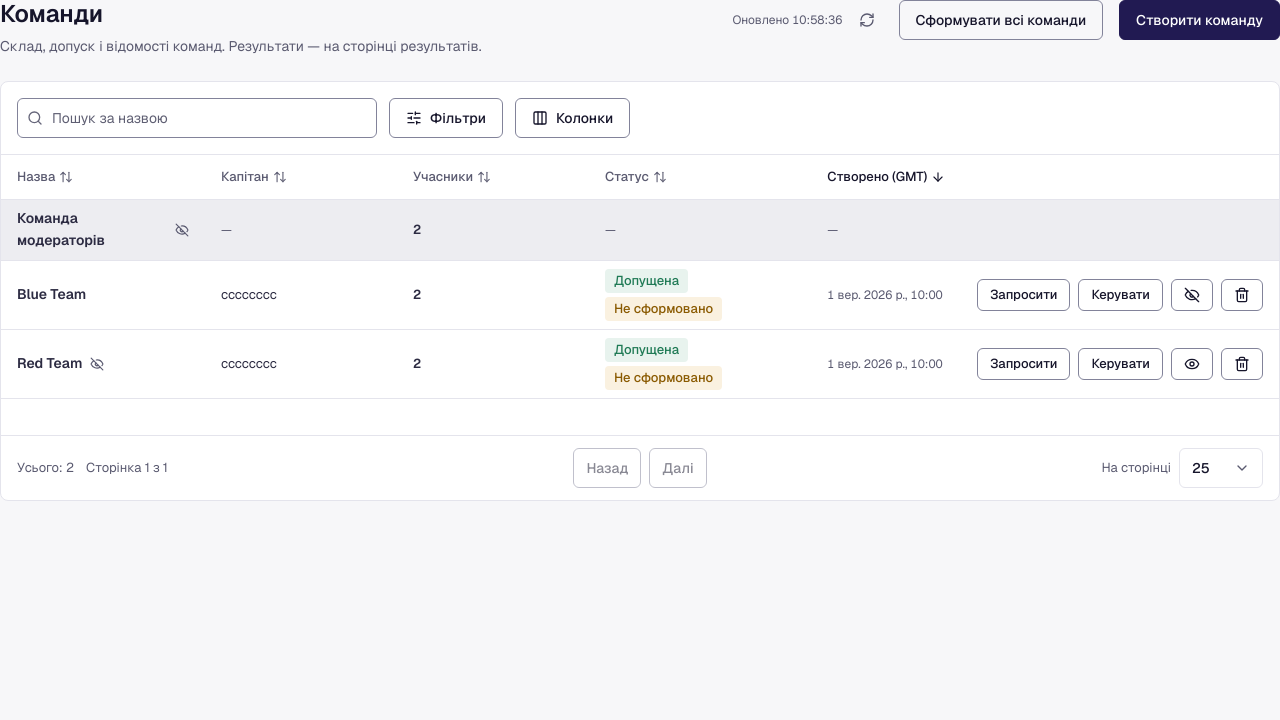
Test: does not offer a team Save until effective values change
expect the text "Blue Team" is shown: met, box [17, 284, 86, 306]
Click the button with aria-label "Керувати командою Blue Team" at (1121, 295), box [1078, 279, 1163, 311]
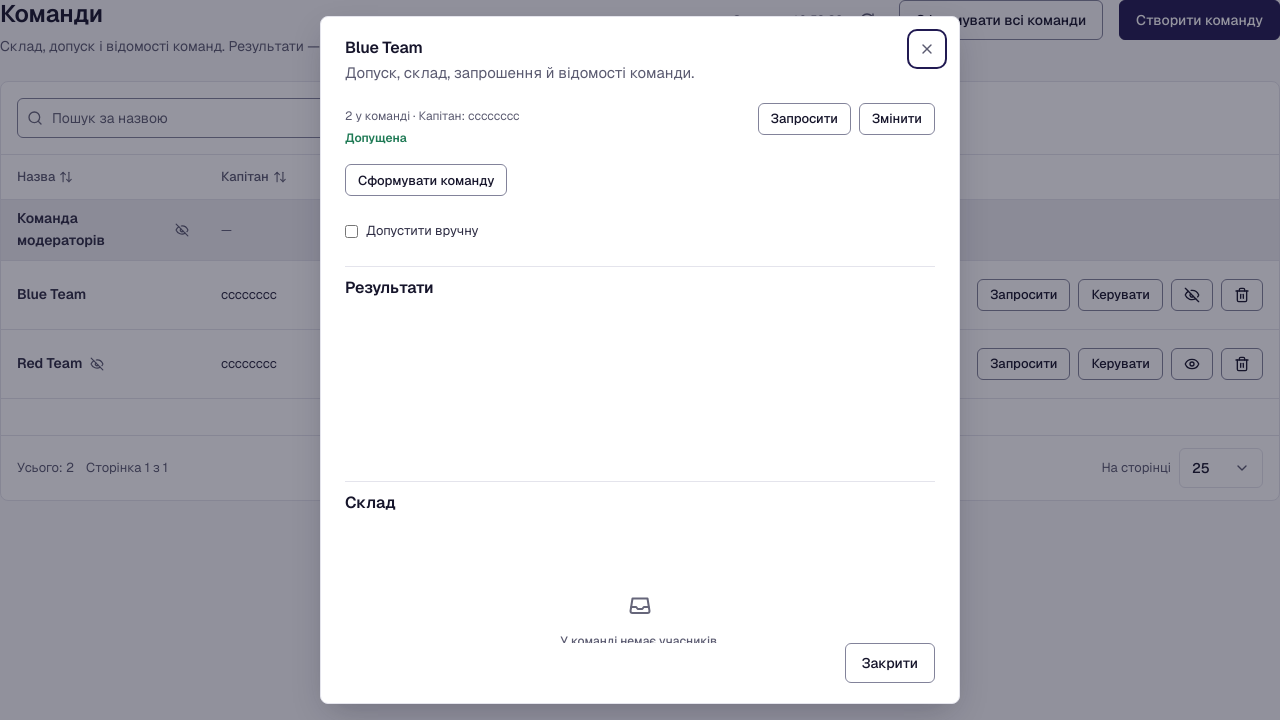
Click the button "Змінити" at (897, 119), box [859, 103, 935, 135]
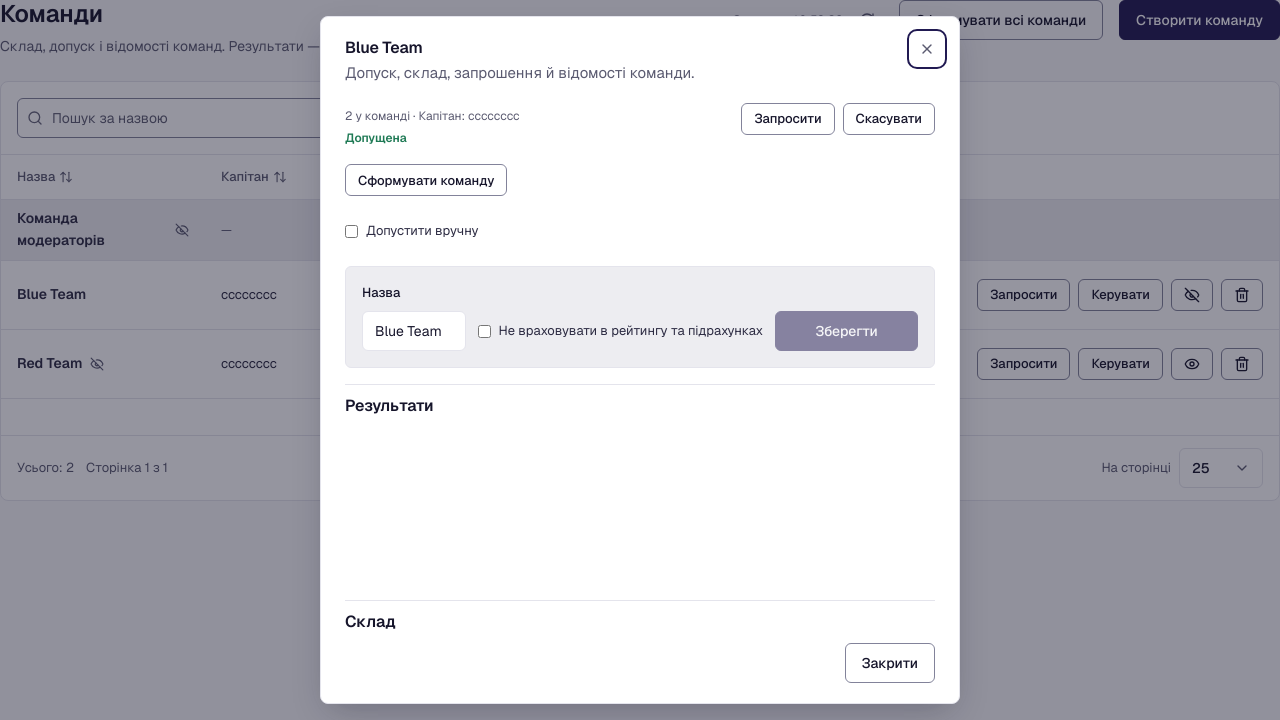
expect the button "Зберегти" is disabled: met, box [775, 311, 918, 351]
Replace the text in the field labelled "Назва" with "New Blue Team" at (414, 331), box [362, 311, 466, 351]
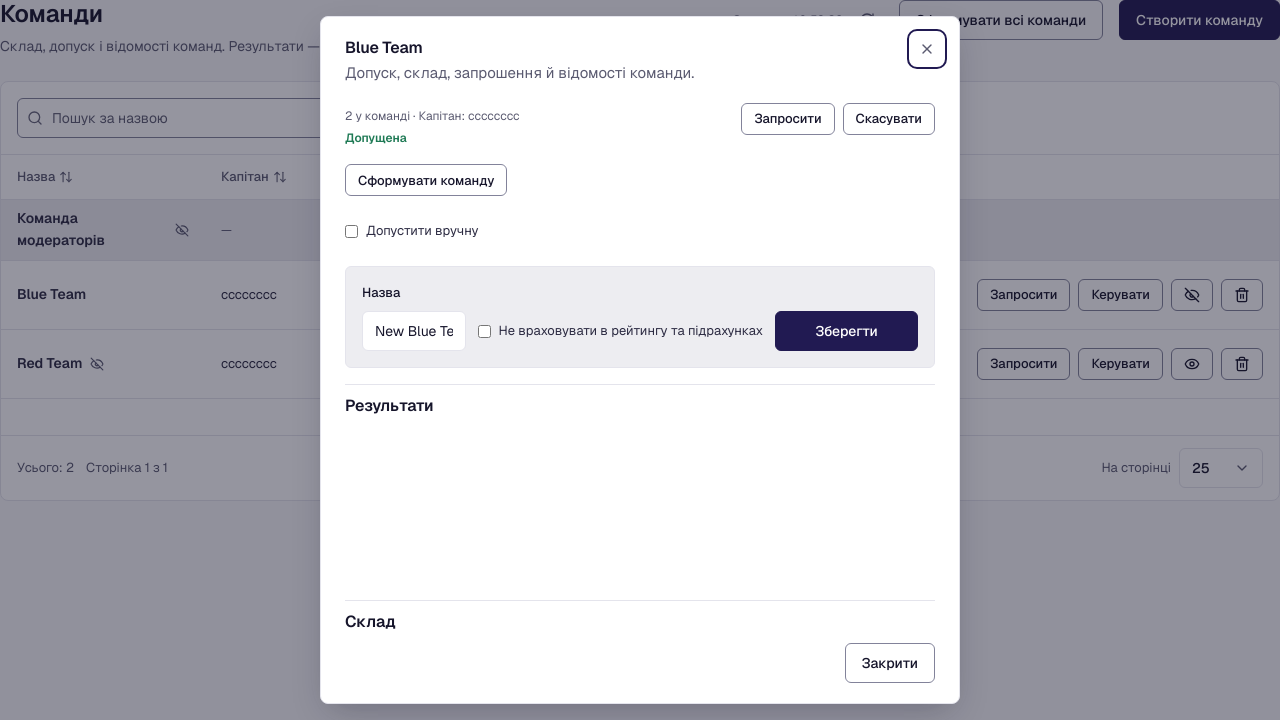
expect the button "Зберегти" is shown: met, box [775, 311, 918, 351]
Replace the text in the field labelled "Назва" with " Blue Team " at (414, 331), box [362, 311, 466, 351]
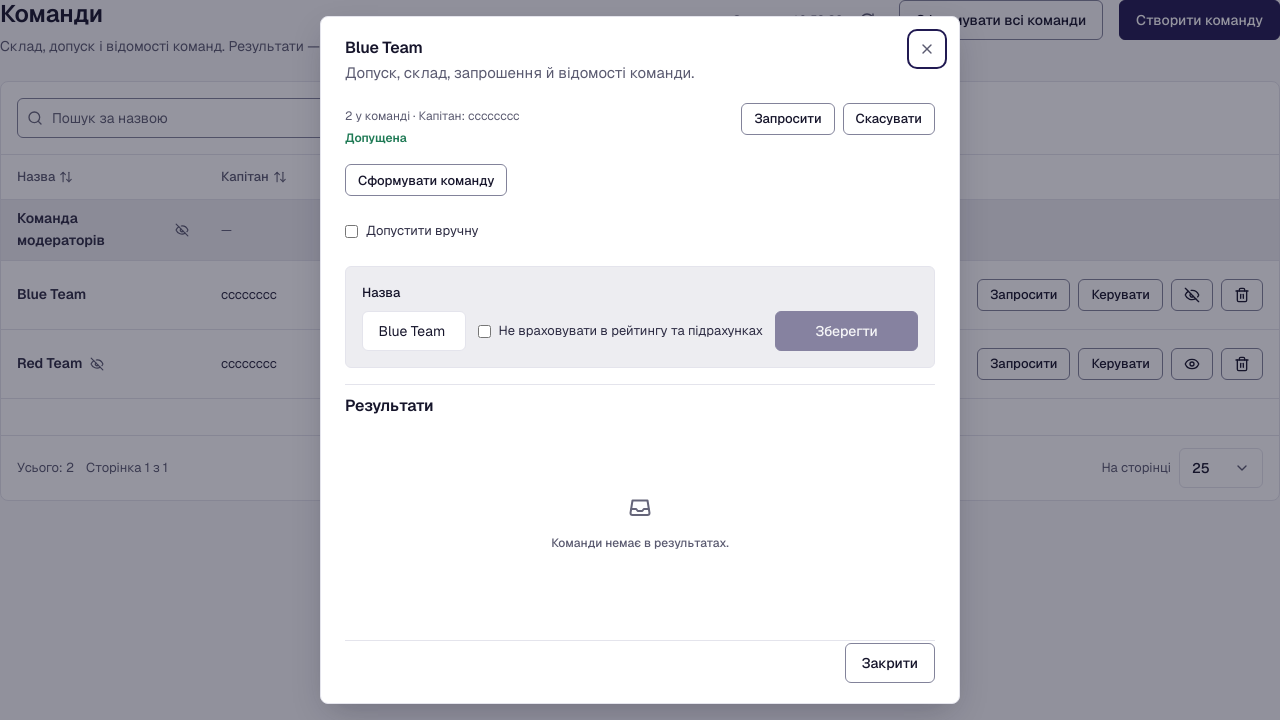
expect the button "Зберегти" is disabled: met, box [775, 311, 918, 351]
